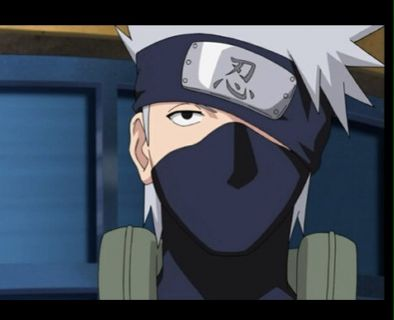kakashi: (130, 34, 338, 257)
